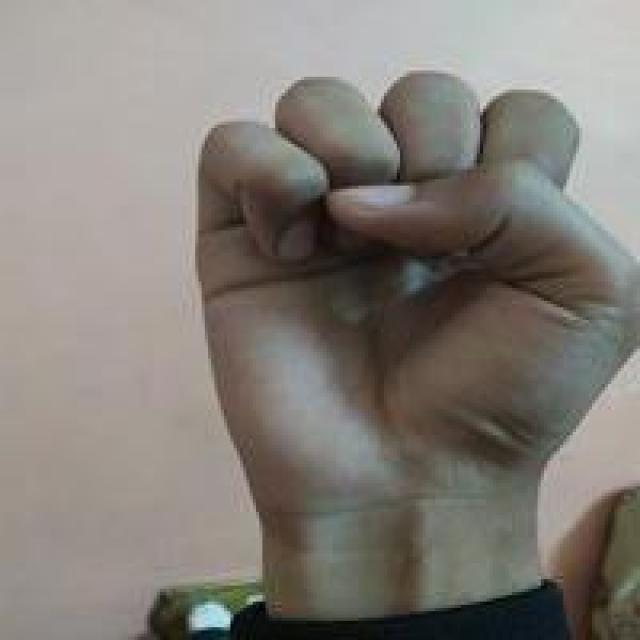E: (185, 70, 640, 515)
